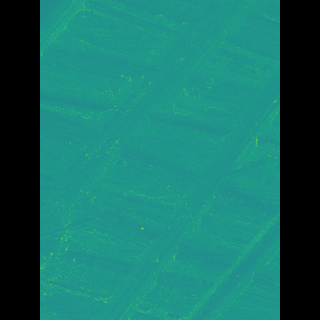Loch: (70, 0, 235, 226), (108, 63, 250, 320), (174, 209, 250, 320)
